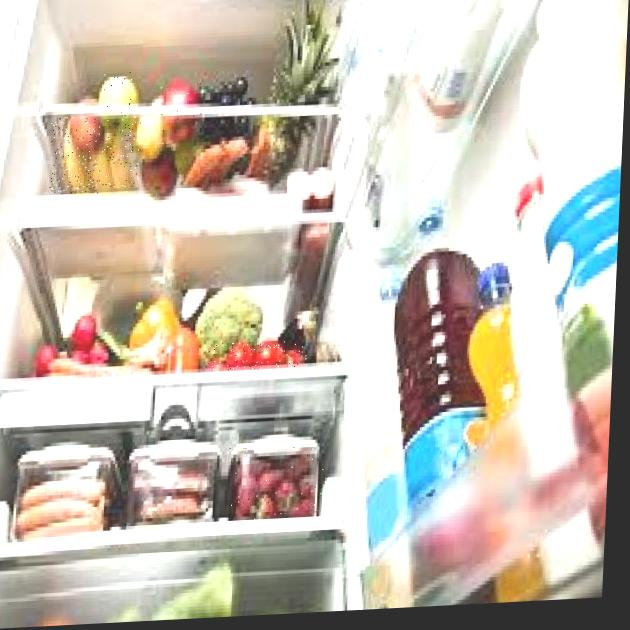apple: (157, 79, 204, 144), (102, 72, 132, 126)
banana: (48, 114, 142, 196)
strawberry: (224, 443, 327, 521)
tomatoes: (205, 339, 308, 372)
